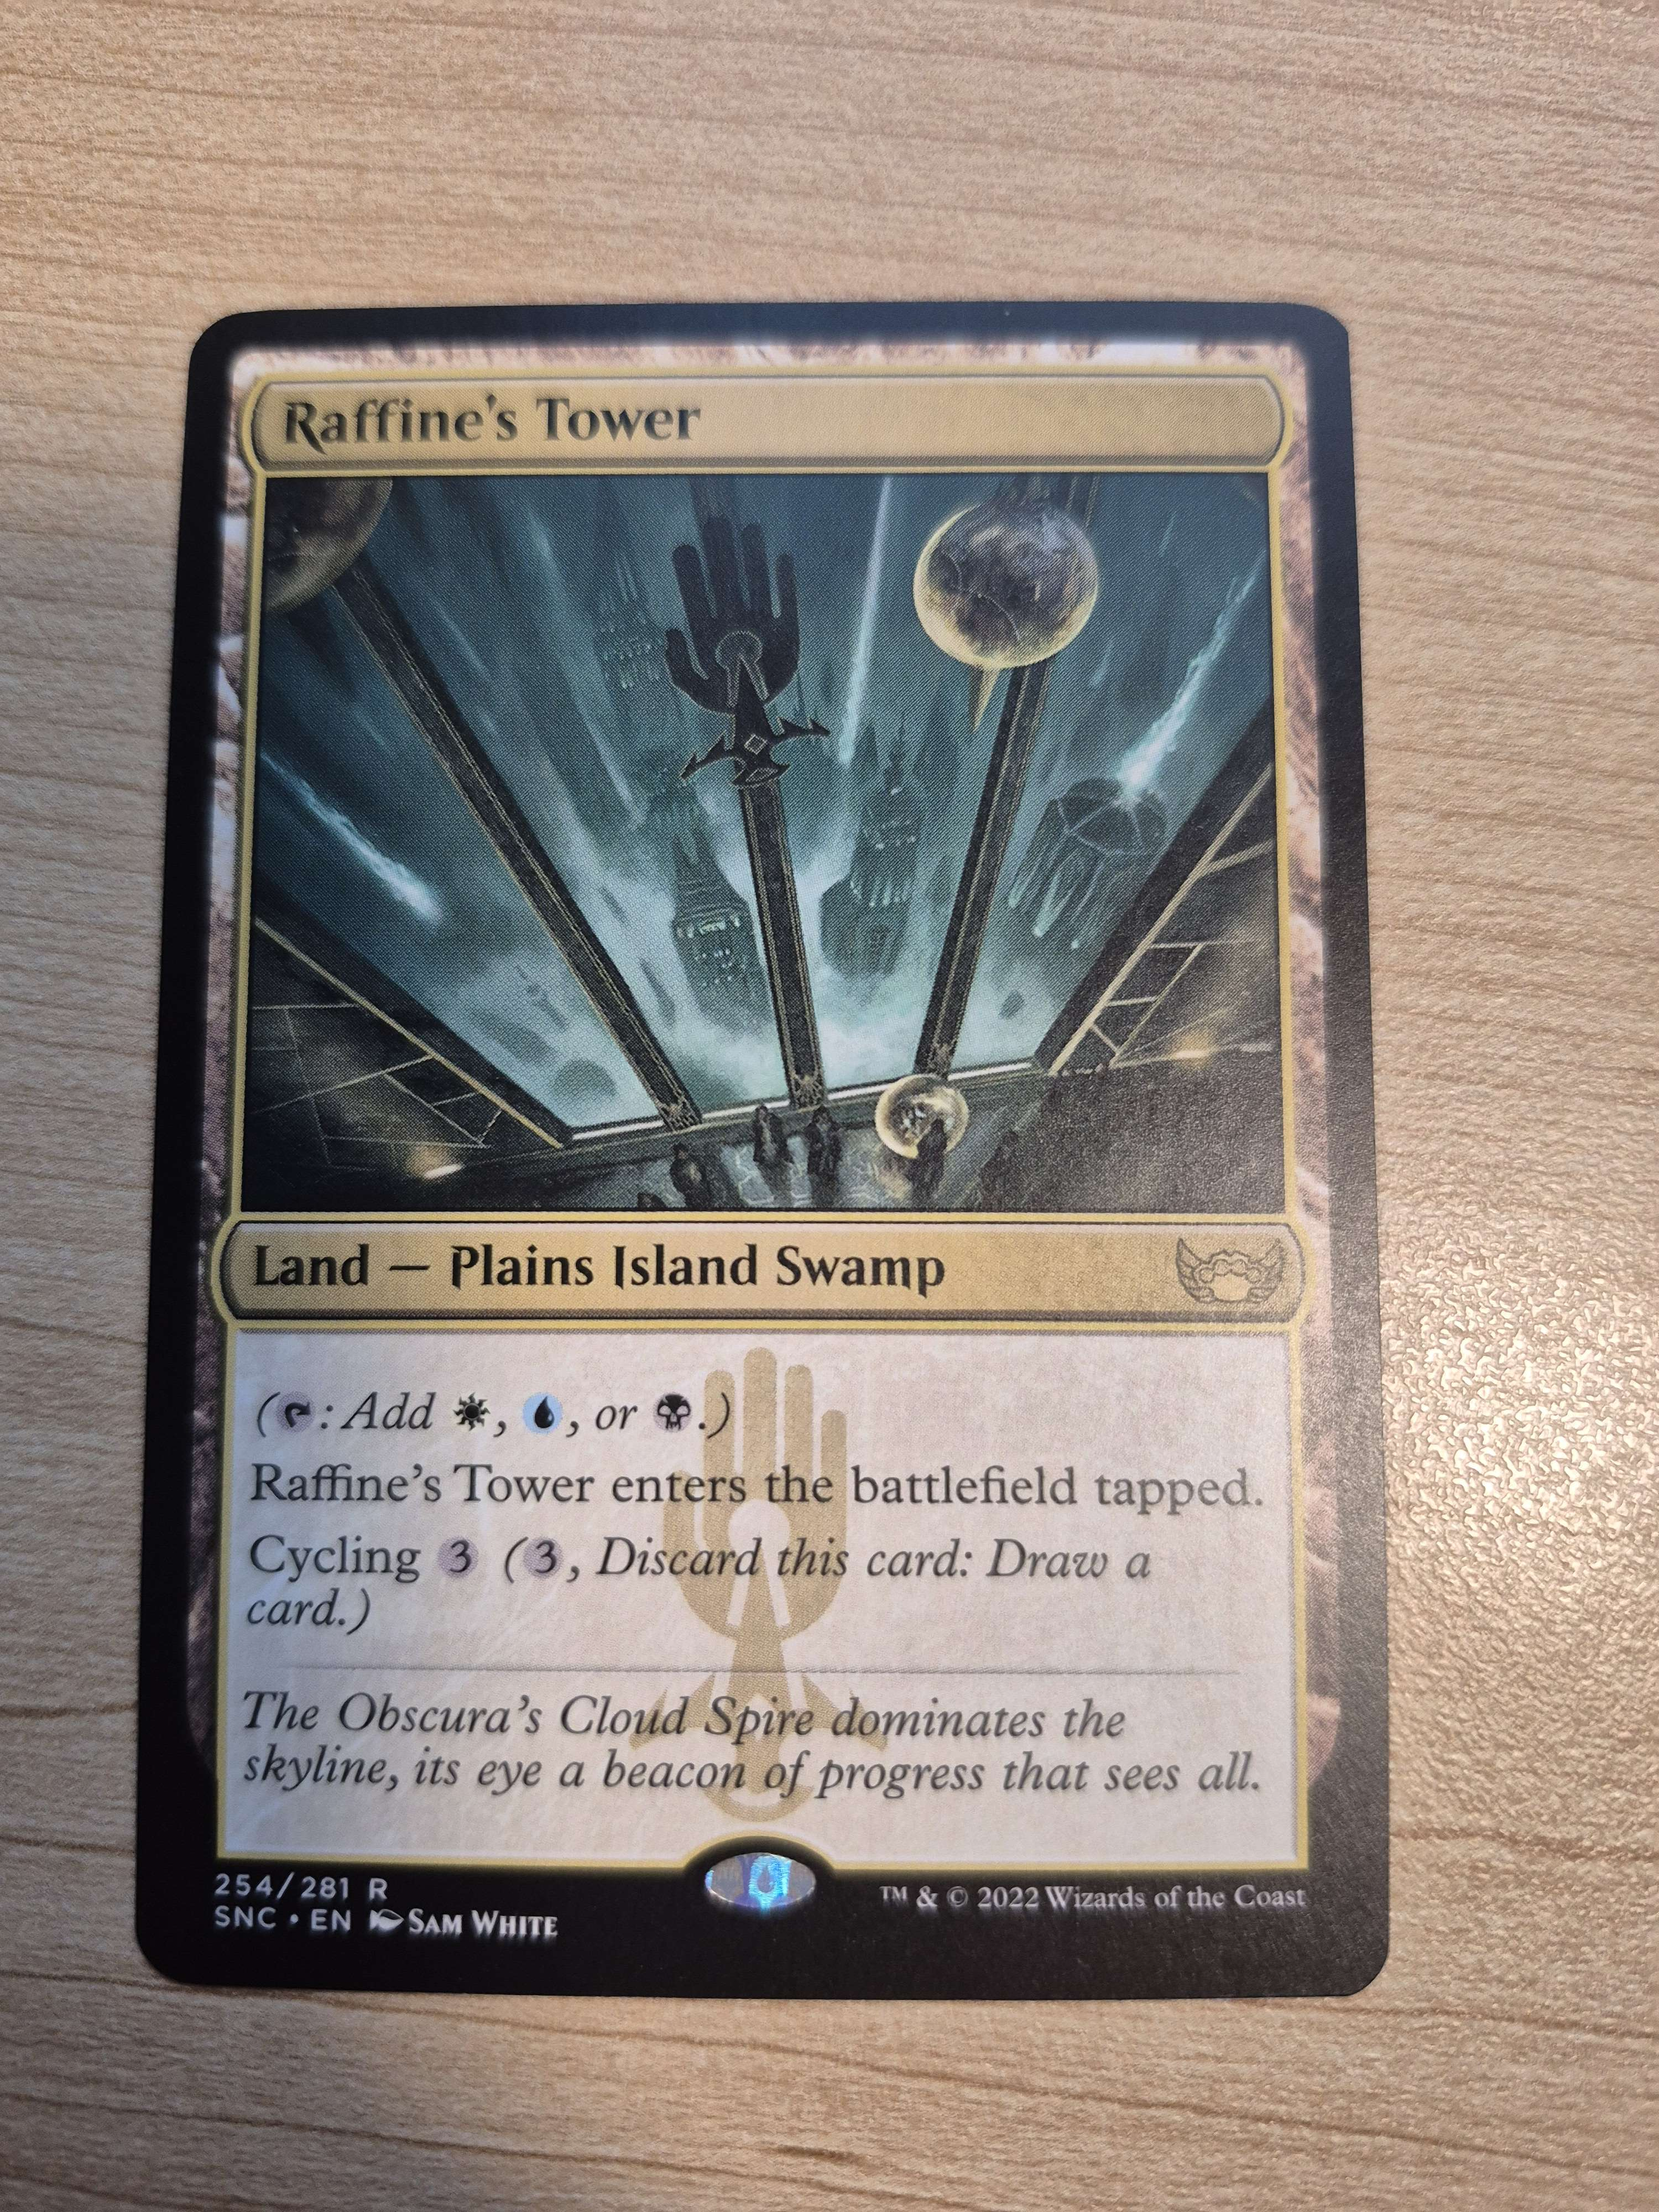mtg_card: (145, 289, 1408, 2001)
